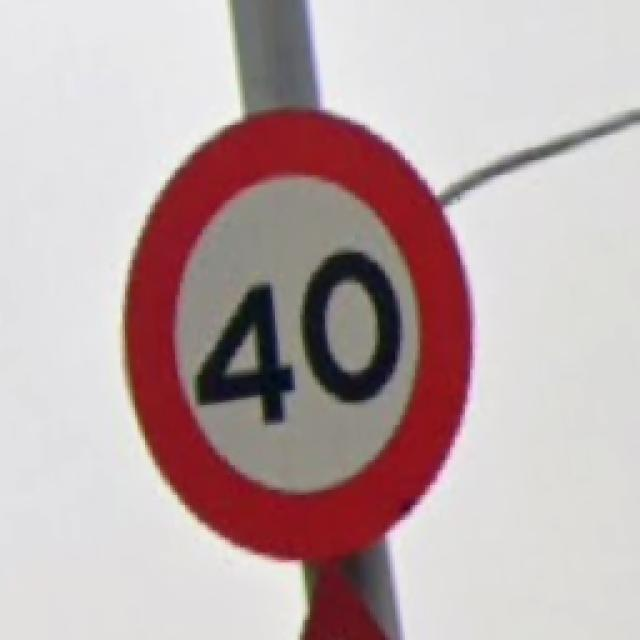Speed Limit -40-: (128, 110, 468, 558)
